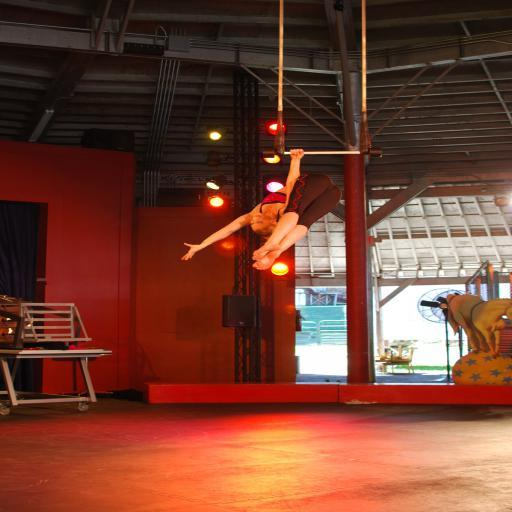Horse: (440, 292, 511, 354)
